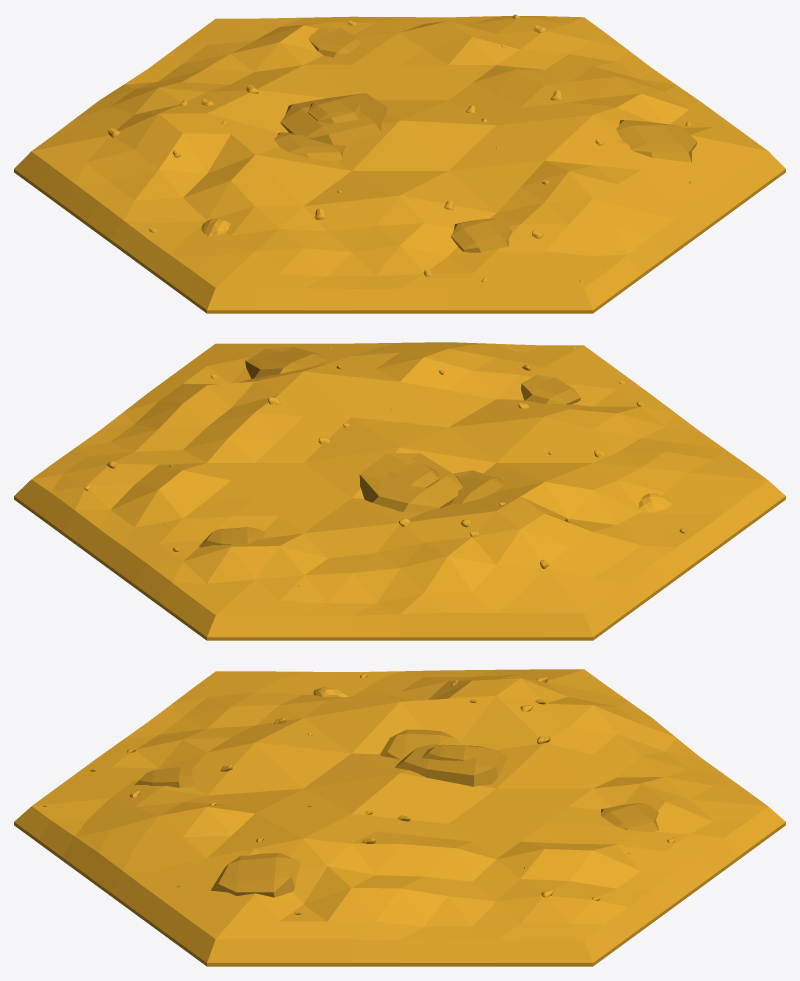
Rendered from bare.glb.
3 renders of one model, top to bottom at view 1: azimuth 30°, elevation 25°; view 2: azimuth 150°, elevation 25°; view 3: azimuth 270°, elevation 25°, orthographic.
Visible parts, largest first — view 1: land, big_details; view 2: land, big_details; view 3: land, big_details.
Boxes of the visible parts, x1,y1,x2,y2 form: land: [14, 14, 785, 313]; big_details: [274, 27, 697, 252]; land: [14, 342, 785, 640]; big_details: [199, 347, 580, 547]; land: [14, 669, 785, 966]; big_details: [135, 729, 658, 897].
Bounding box in the file's own units: 1.73 × 0.169 × 2.
